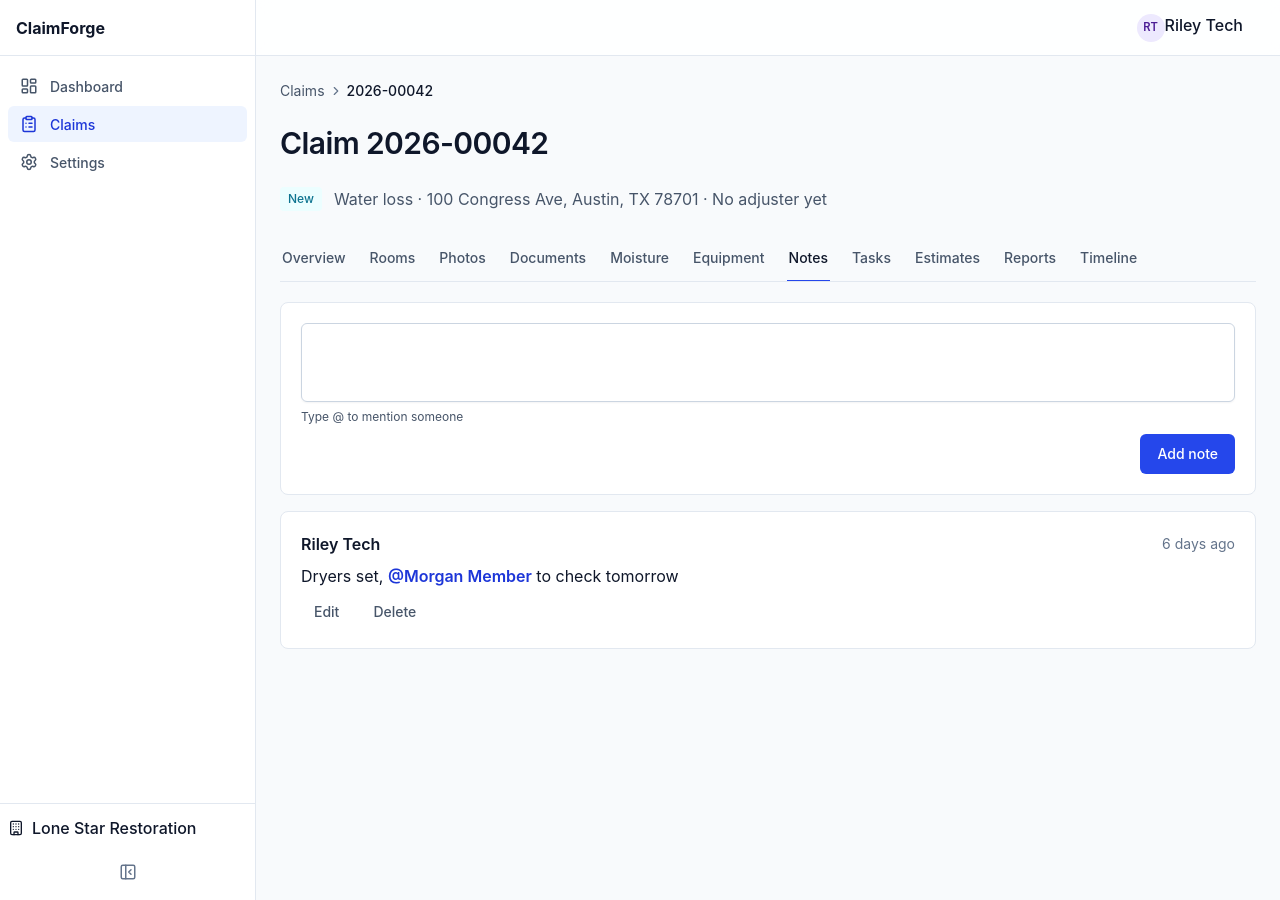
Scenario: changing a note › its author edits it, mentions kept, and it says it was edited
Click the button "Edit" at (327, 612), box [301, 596, 352, 628]
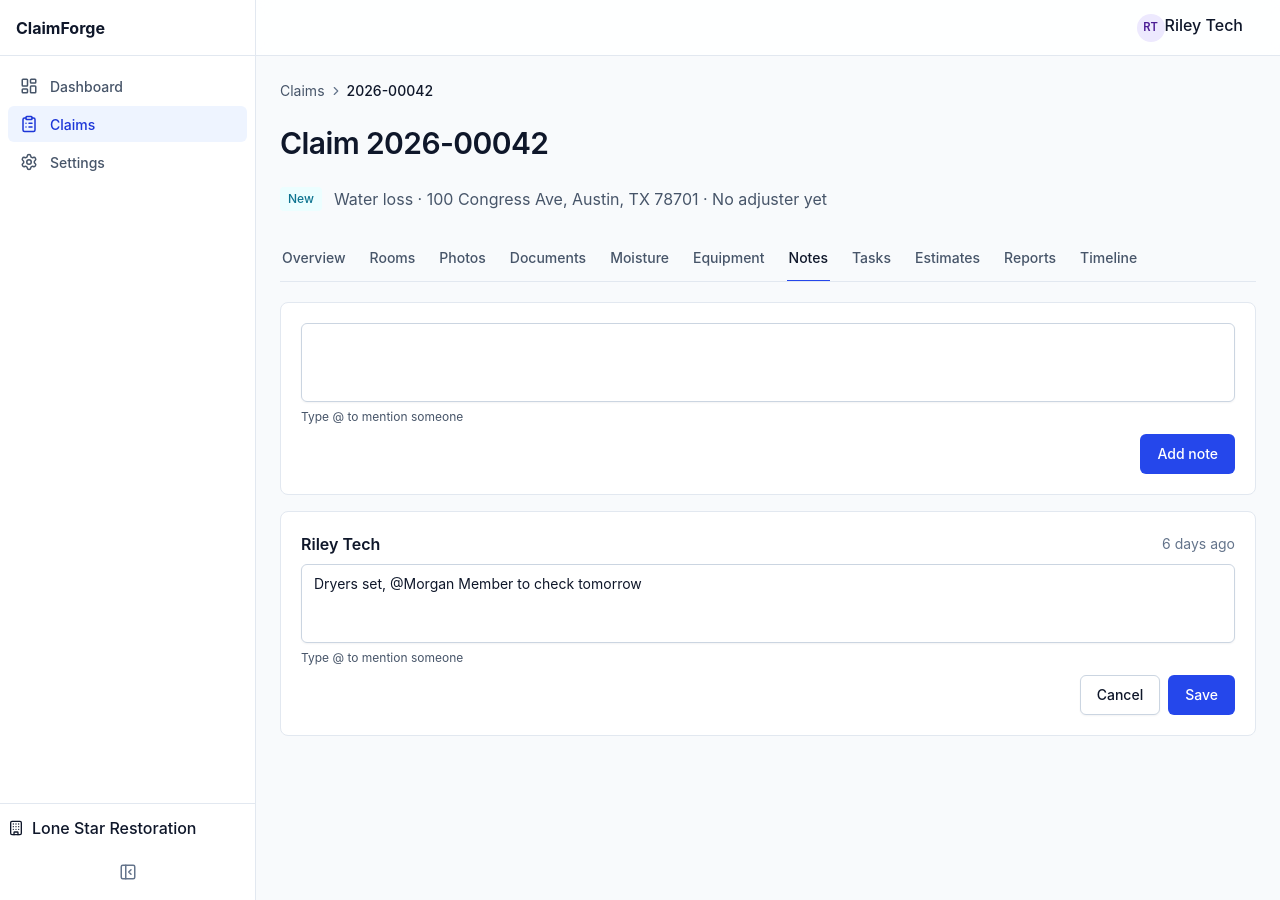
Expected: the text box labelled "Edit note" holds "Dryers set, @Morgan Member to check tomorrow"
Replace the text in the text box labelled "Edit note" with "Dryers set, @Morgan Member to check Friday" at (768, 603), box [301, 564, 1235, 642]
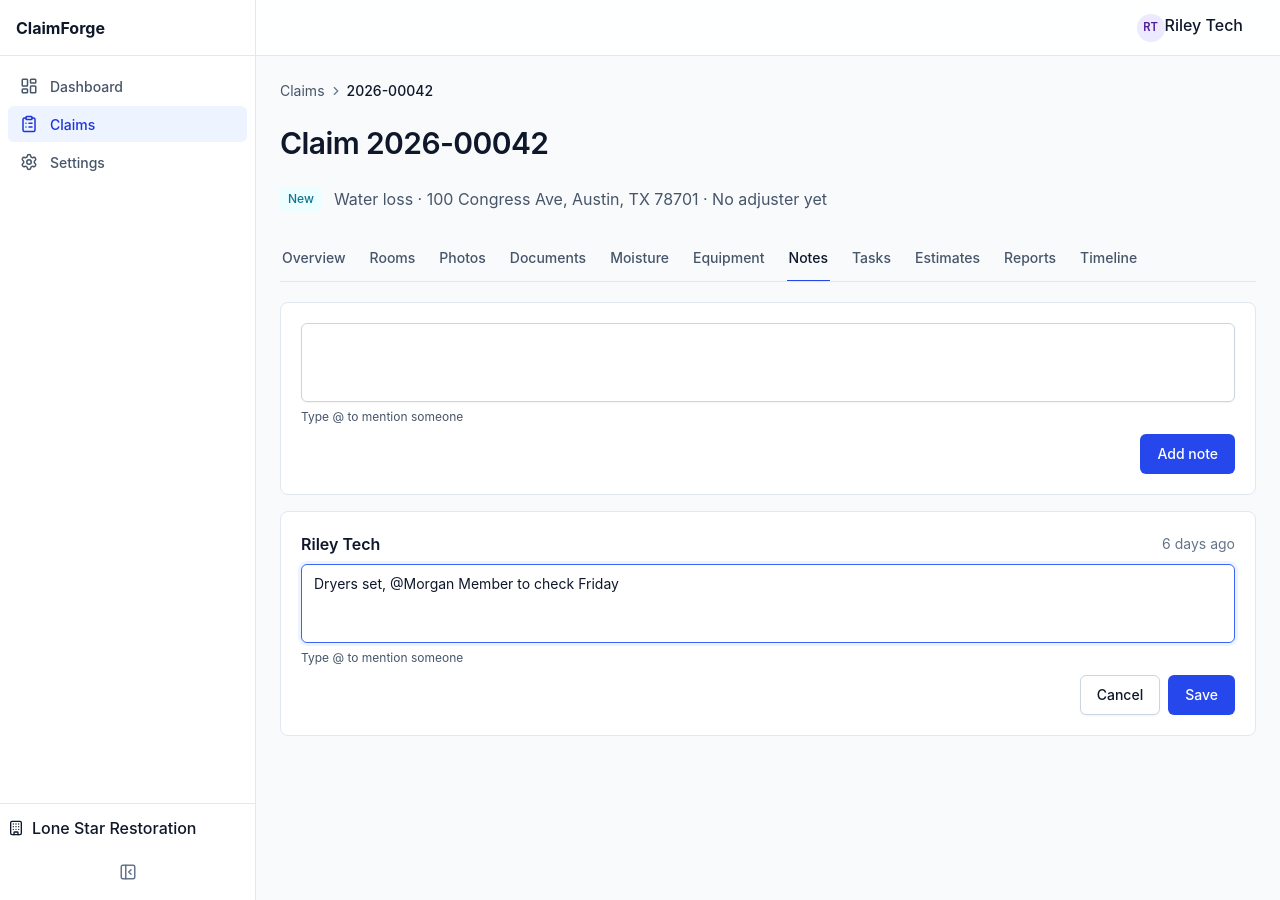
Click the button "Save" at (1202, 694), box [1168, 674, 1235, 714]
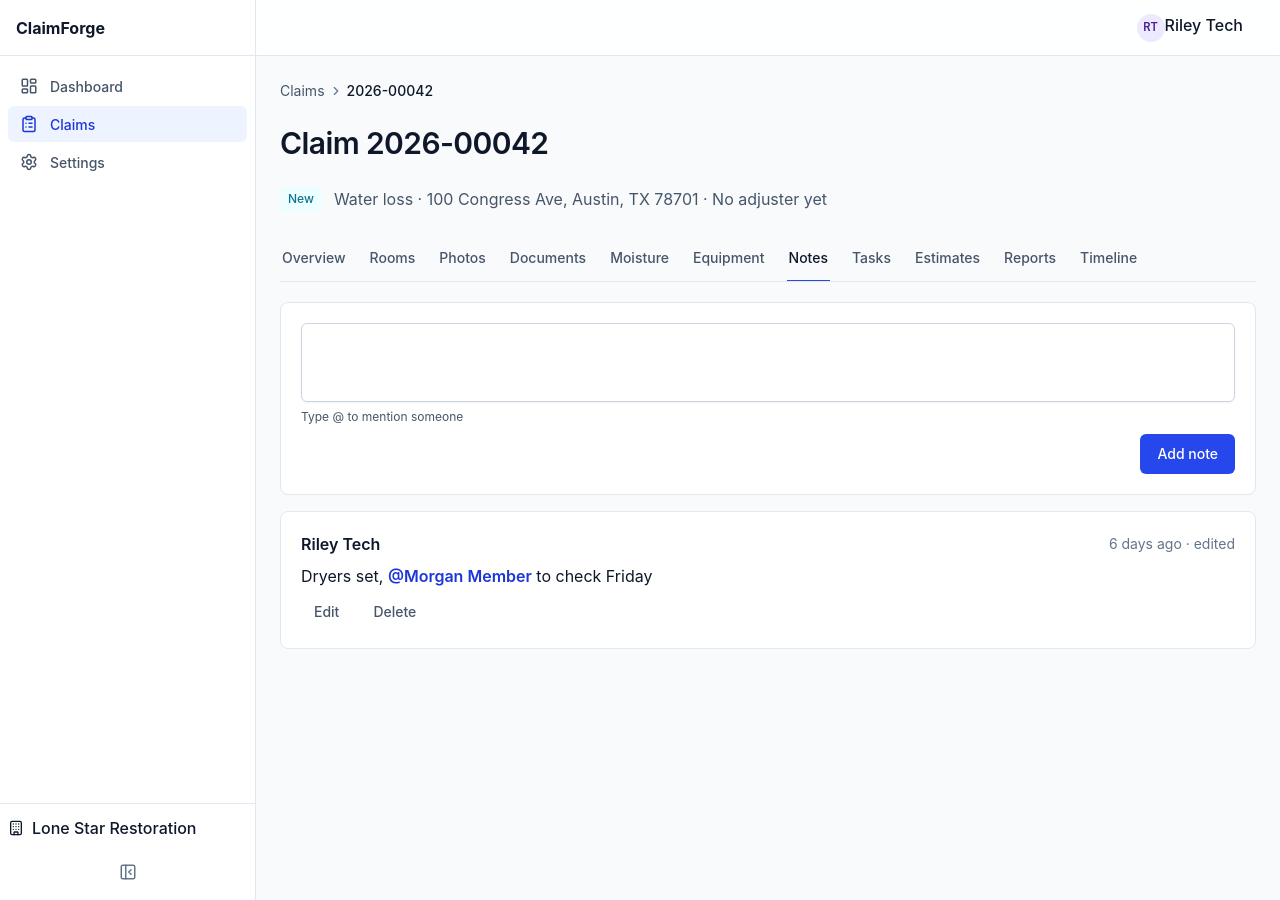
Expected: the text "6 days ago · edited" is shown, [1109, 533, 1235, 554]
